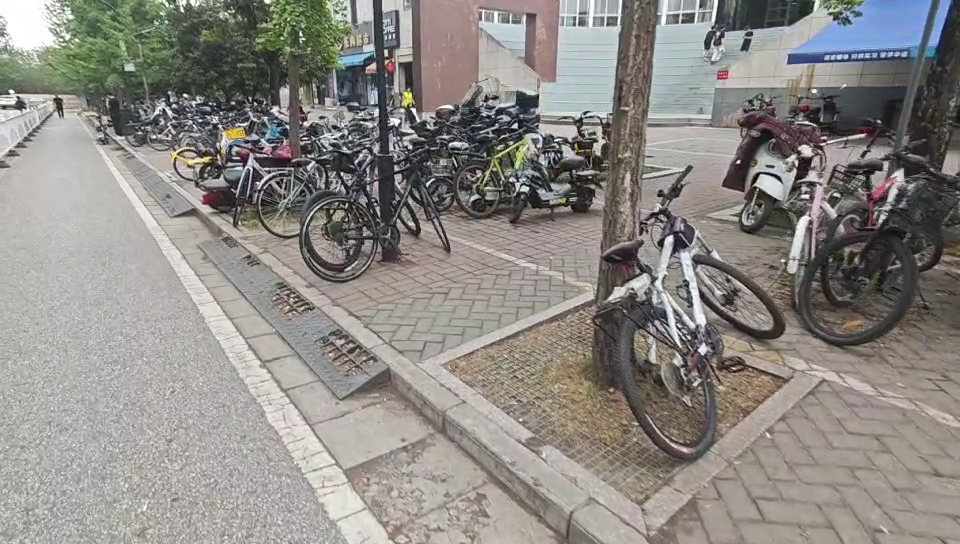others: (591, 186, 786, 464), (810, 152, 945, 347), (728, 97, 845, 234), (306, 166, 454, 272), (253, 135, 375, 223), (501, 124, 596, 224), (453, 130, 542, 212)
shared_bike_meituan: (167, 115, 253, 181)
